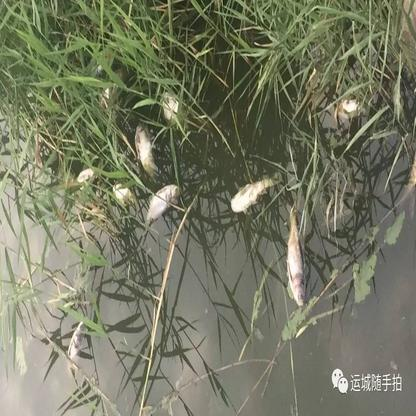deceased fish: (282, 214, 307, 305), (225, 175, 280, 214), (143, 181, 182, 224), (133, 122, 162, 173)
